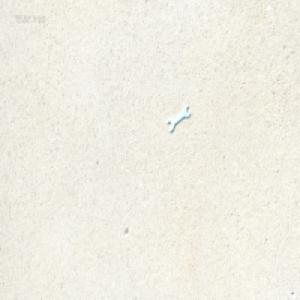Wrench: (168, 103, 190, 131)
